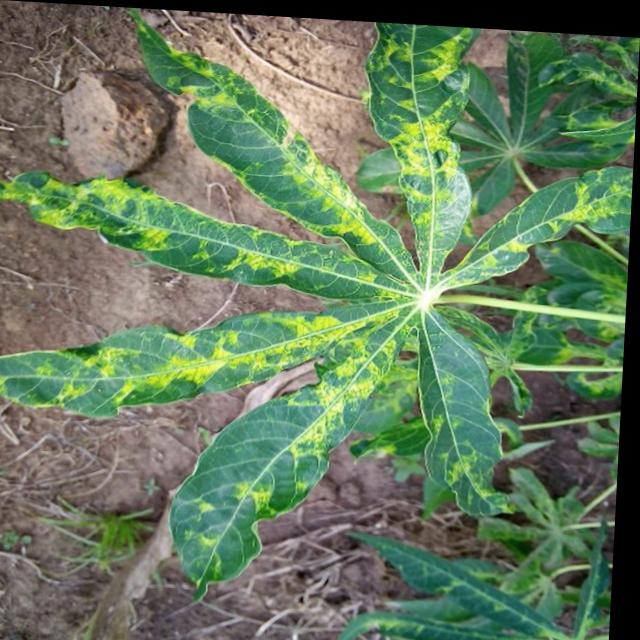Mosaico: (50, 40, 552, 500)
